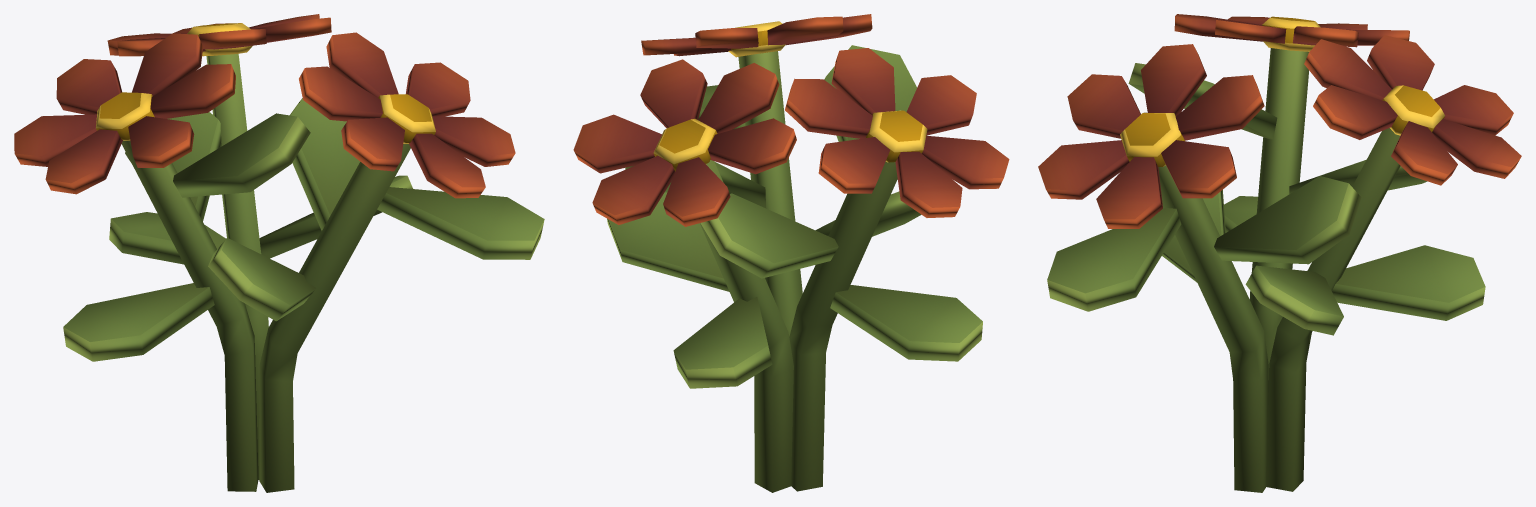
File: flower_bunch_red.fbx
3 views of the same model, side by side, from view 1: azimuth 30°, elevation 25°; view 2: azimuth 150°, elevation 25°; view 3: azimuth 270°, elevation 25° (orthographic).
Visible parts, largest first — view 1: flower_bunch_red; view 2: flower_bunch_red; view 3: flower_bunch_red.
Part boxes in pixels (x1,y1,x2,y2): flower_bunch_red: (14, 14, 544, 492); flower_bunch_red: (573, 14, 1009, 492); flower_bunch_red: (1038, 14, 1521, 492).
Bounding box in the file's own units: 82.07 × 83.97 × 83.37.
